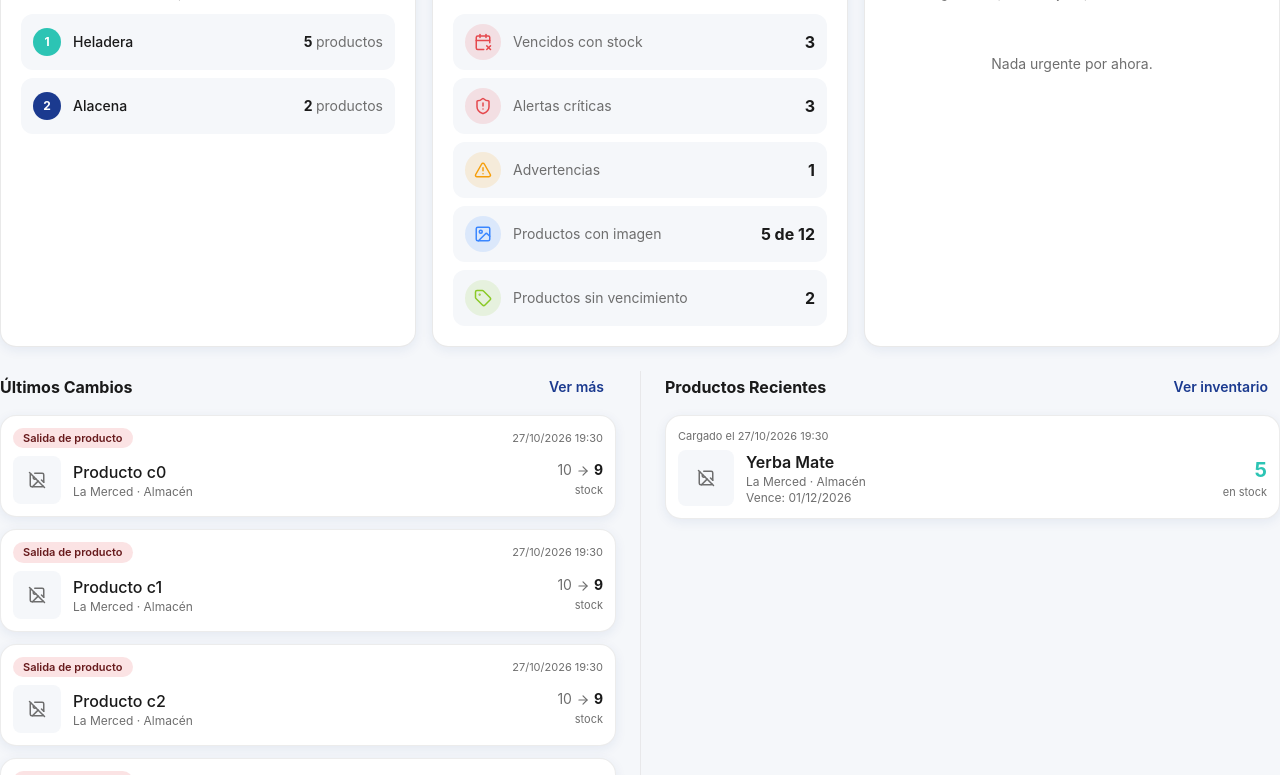
Scenario: MyDashboard · últimos cambios y productos recientes › «Ver más» abre el historial y «Cargar más» pide la página siguiente
(page scrolled)
expect the list item with test id "change-c0" is shown: met, box [0,414,616,517]
Click the button "Ver más": (576, 386) [537,370,616,402]
(page scrolled)
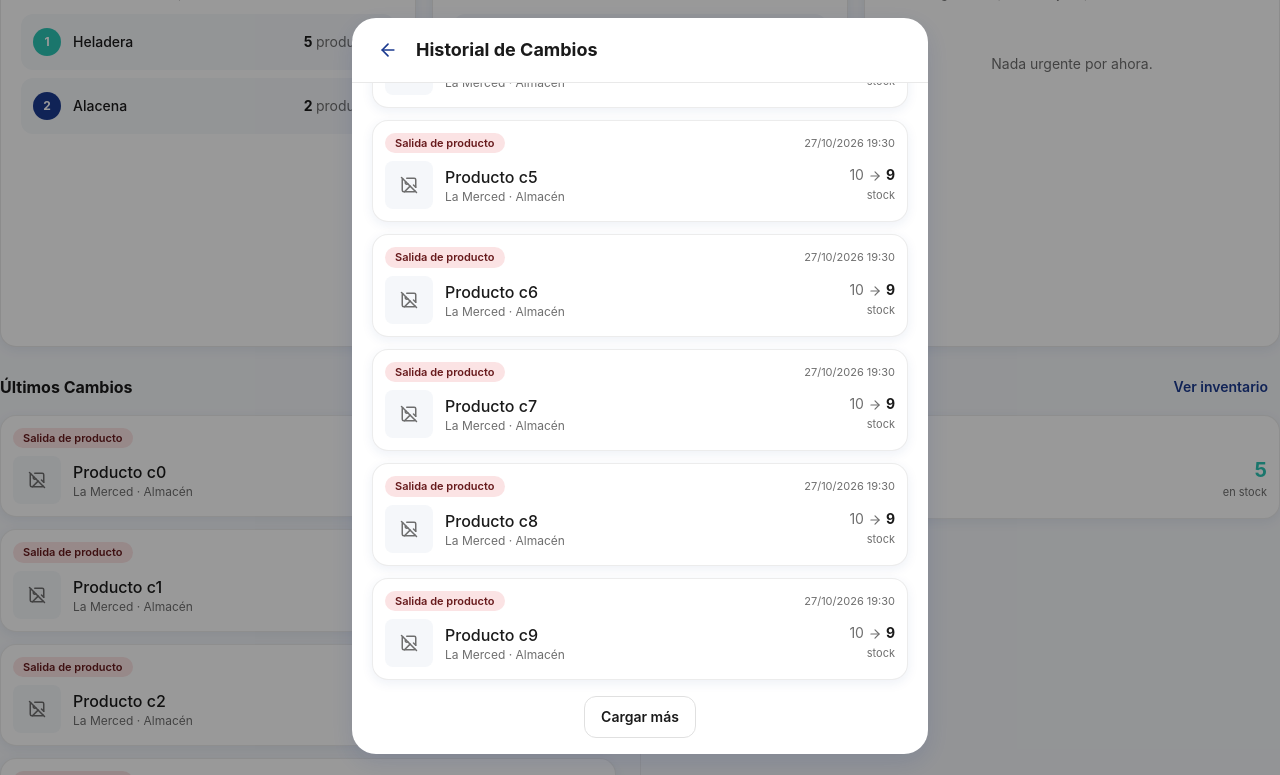
Click the button "Cargar más": (640, 717) [584,696,696,738]
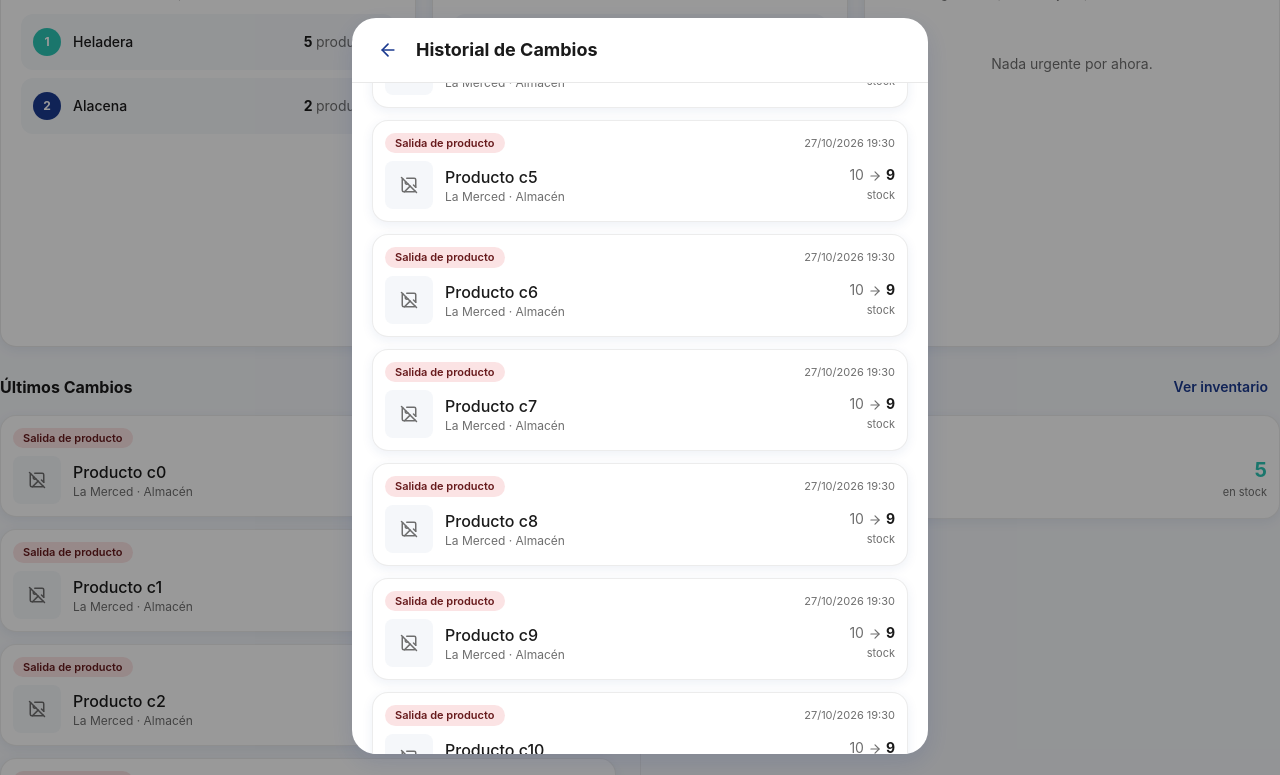
expect the button "Cargar más" is gone: met
Click the button named "Volver": (388, 50) [372,34,404,66]
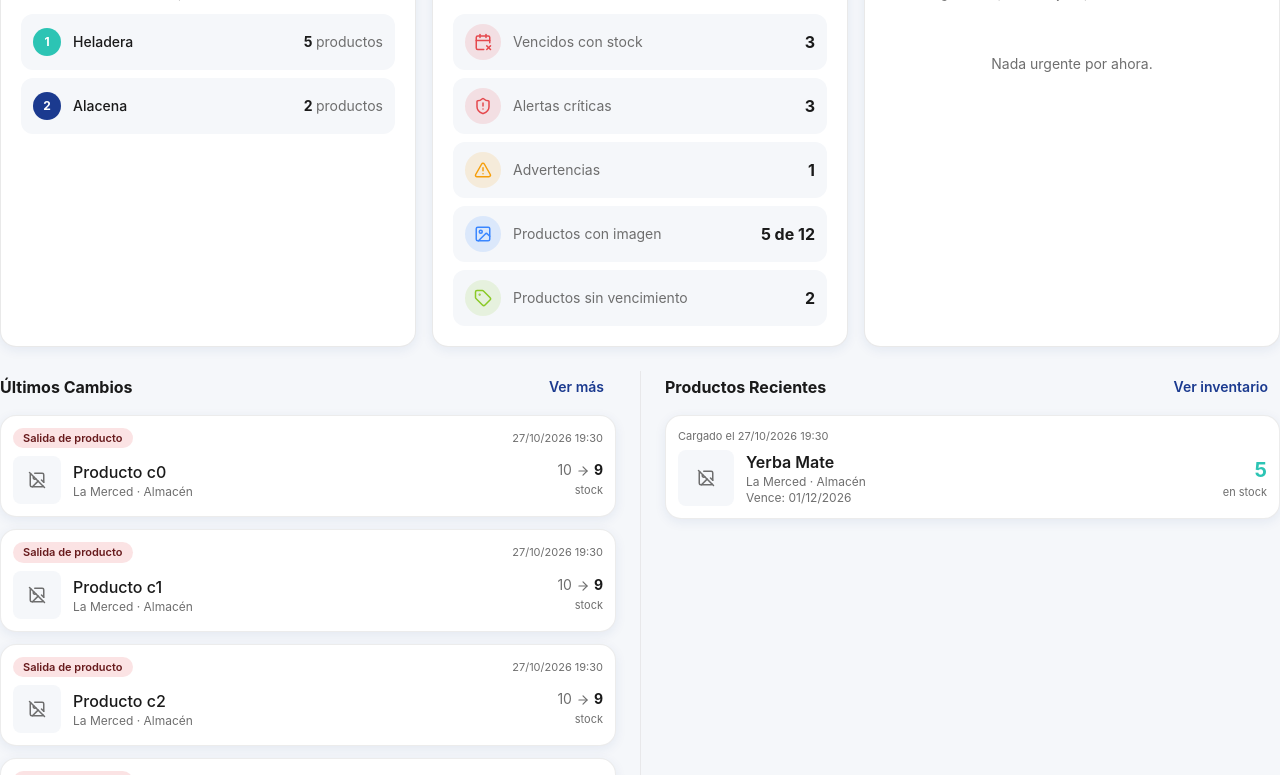
expect the dialog is gone: met
